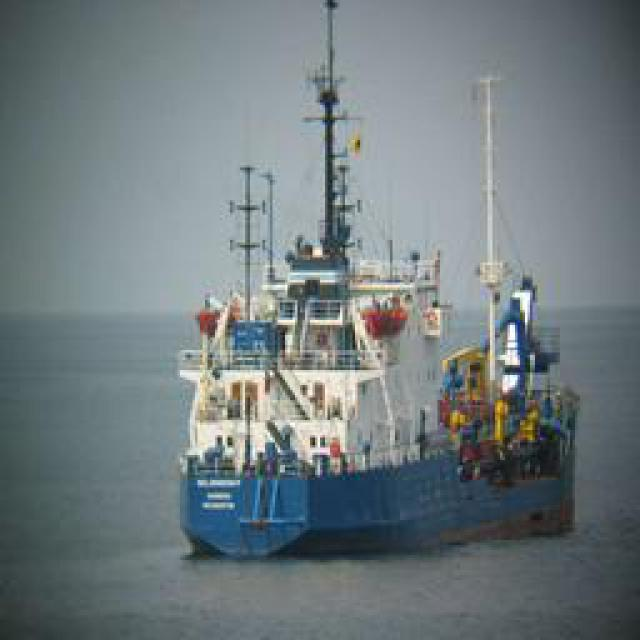Ship: (179, 5, 542, 560)
